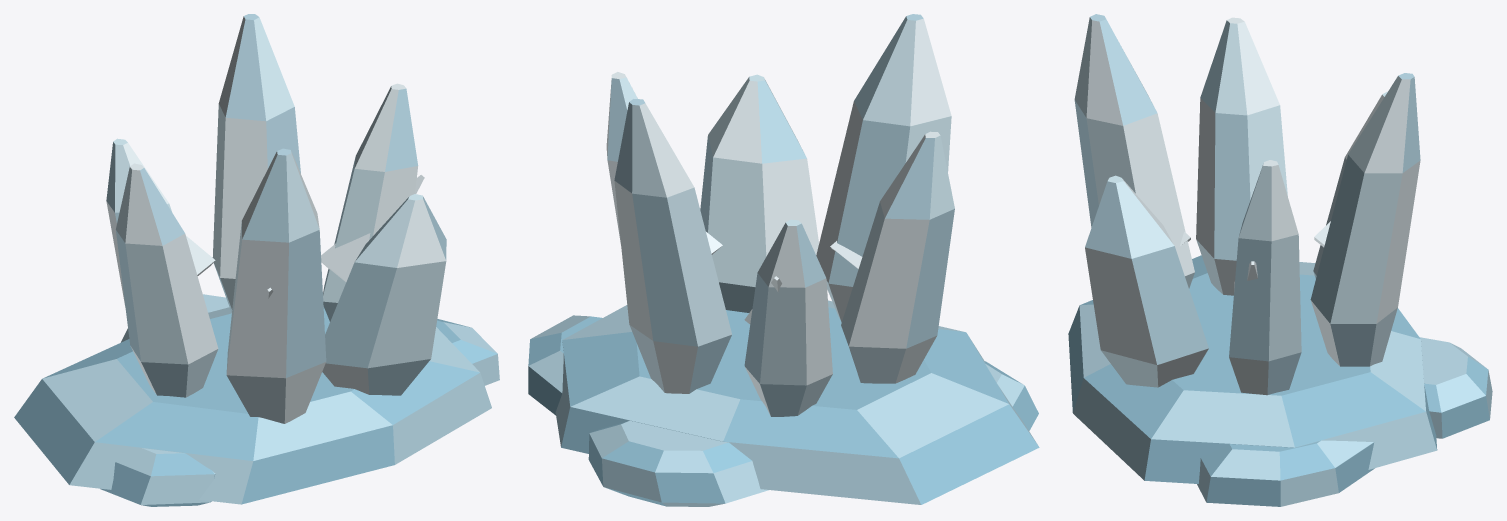
File: BH_ORE_O10_Gelo_Fantasma_V01.glb
3 views of the same model, side by side, from view 1: azimuth 30°, elevation 25°; view 2: azimuth 150°, elevation 25°; view 3: azimuth 270°, elevation 25° (orthographic). The views are drawn at different scales.
Visible parts, largest first — view 1: Bedrock | primary.001, O10 | shard 3.001, O10 | shard 4.001, O10 | shard 2.001, O10 | shard 6.001, O10 | shard 5.001, Bedrock | shoulder 1.001, O10 | shard 1.001, Bedrock | shoulder 2.001, Curved ice barb 1.001; view 2: Bedrock | primary.001, O10 | shard 6.001, O10 | shard 2.001, O10 | shard 4.001, O10 | shard 3.001, O10 | shard 1.001, Bedrock | shoulder 3.001, Bedrock | shoulder 2.001, O10 | shard 5.001, Bedrock | shoulder 1.001; view 3: Bedrock | primary.001, O10 | shard 6.001, O10 | shard 4.001, O10 | shard 2.001, O10 | shard 3.001, O10 | shard 5.001, Bedrock | shoulder 2.001, Bedrock | shoulder 3.001, O10 | shard 1.001.
Boxes of the visible parts, left/top/right/bottom form: Bedrock | primary.001: left=14, top=307, right=491, bottom=504; O10 | shard 3.001: left=226, top=148, right=326, bottom=423; O10 | shard 4.001: left=322, top=194, right=446, bottom=395; O10 | shard 2.001: left=115, top=163, right=218, bottom=397; O10 | shard 6.001: left=212, top=14, right=300, bottom=312; O10 | shard 5.001: left=323, top=83, right=418, bottom=321; Bedrock | shoulder 1.001: left=100, top=448, right=215, bottom=506; O10 | shard 1.001: left=106, top=138, right=171, bottom=305; Bedrock | shoulder 2.001: left=436, top=319, right=499, bottom=385; Curved ice barb 1.001: left=321, top=175, right=424, bottom=281; Bedrock | primary.001: left=555, top=300, right=1039, bottom=504; O10 | shard 6.001: left=614, top=99, right=731, bottom=393; O10 | shard 2.001: left=841, top=131, right=954, bottom=383; O10 | shard 4.001: left=700, top=74, right=818, bottom=312; O10 | shard 3.001: left=816, top=14, right=951, bottom=322; O10 | shard 1.001: left=744, top=219, right=832, bottom=416; Bedrock | shoulder 3.001: left=588, top=420, right=768, bottom=506; Bedrock | shoulder 2.001: left=528, top=315, right=602, bottom=415; O10 | shard 5.001: left=606, top=72, right=637, bottom=243; Bedrock | shoulder 1.001: left=985, top=361, right=1038, bottom=430; Bedrock | primary.001: left=1068, top=255, right=1437, bottom=483; O10 | shard 6.001: left=1310, top=73, right=1420, bottom=366; O10 | shard 4.001: left=1085, top=175, right=1208, bottom=387; O10 | shard 2.001: left=1196, top=17, right=1287, bottom=295; O10 | shard 3.001: left=1074, top=14, right=1194, bottom=288; O10 | shard 5.001: left=1229, top=160, right=1301, bottom=395; Bedrock | shoulder 2.001: left=1197, top=440, right=1374, bottom=506; Bedrock | shoulder 3.001: left=1419, top=337, right=1492, bottom=438; O10 | shard 1.001: left=1313, top=91, right=1387, bottom=278.
Bounding box in the file's own units: 2.56 × 1.92 × 2.03.
